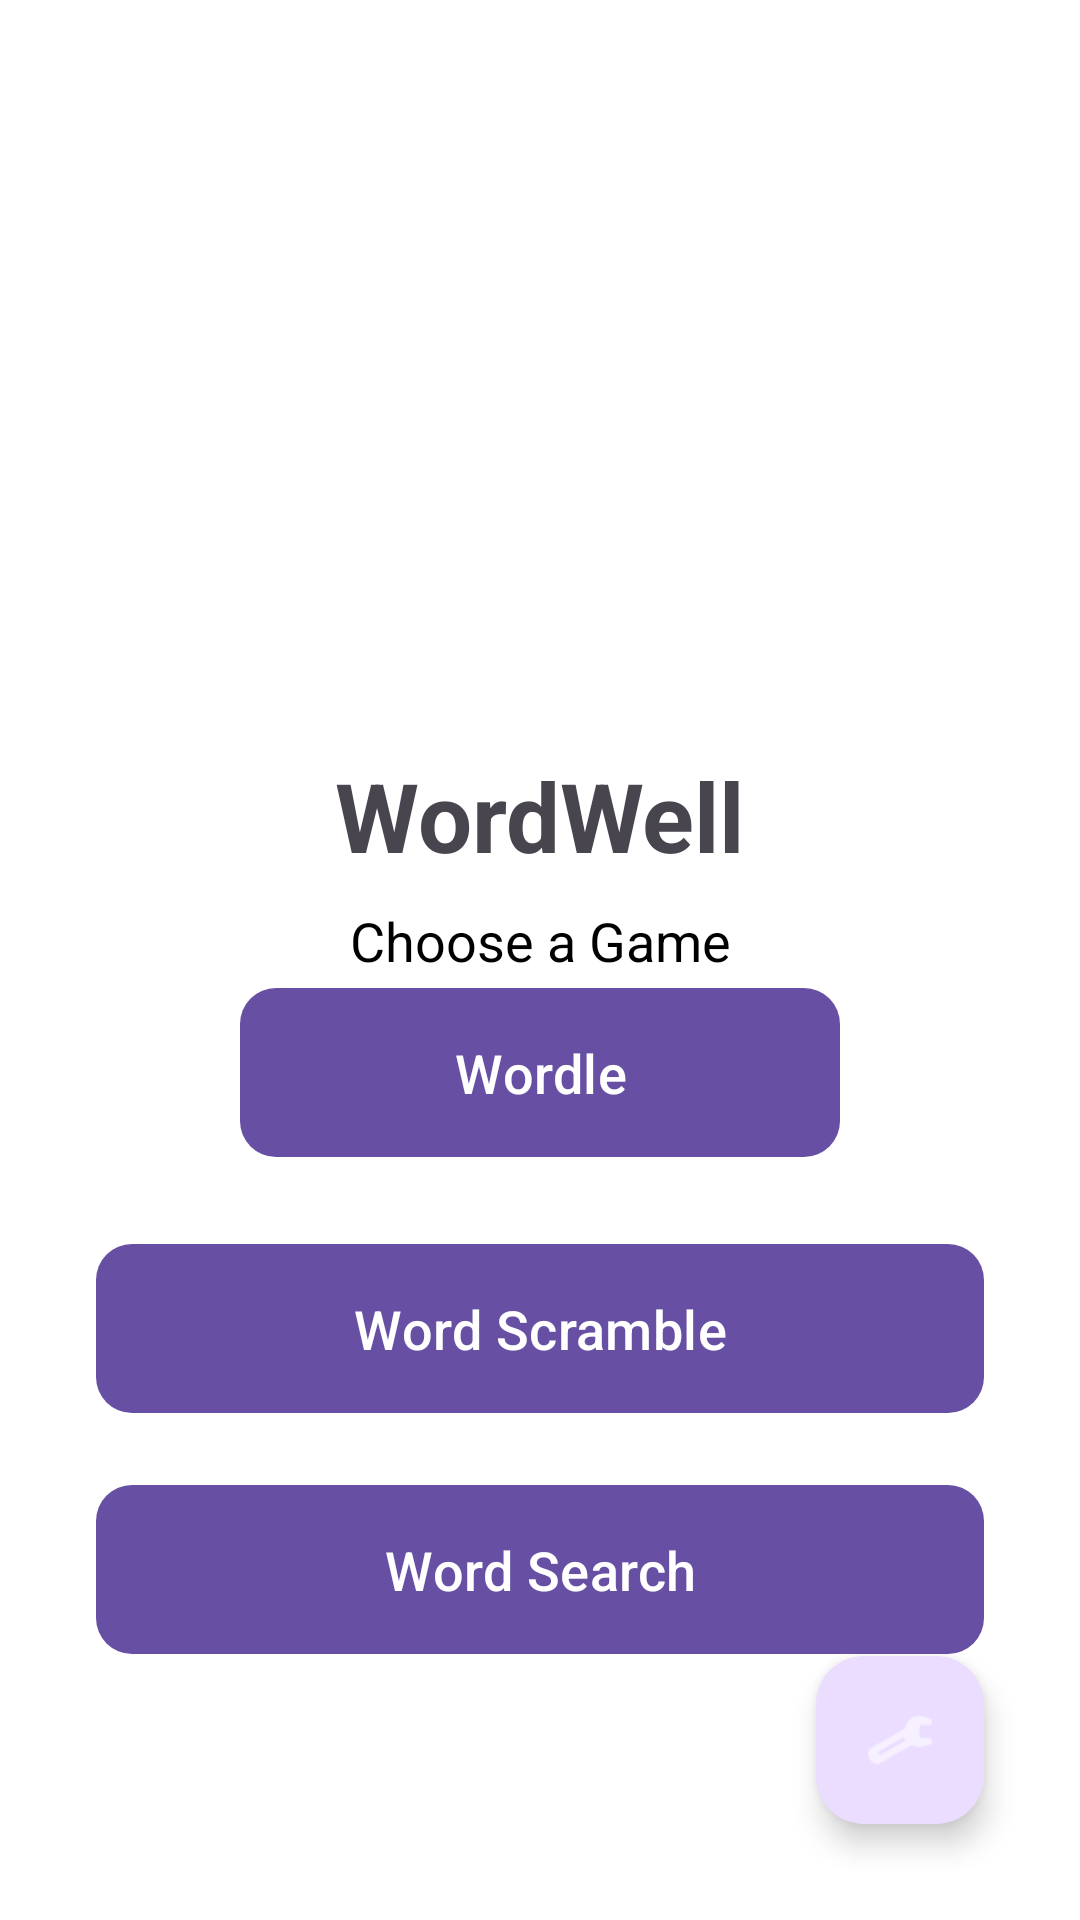

Icons on this 1080w x 1920h Android screen, each with the point to tap as point (x, y):
Settings: point (900, 1740)
